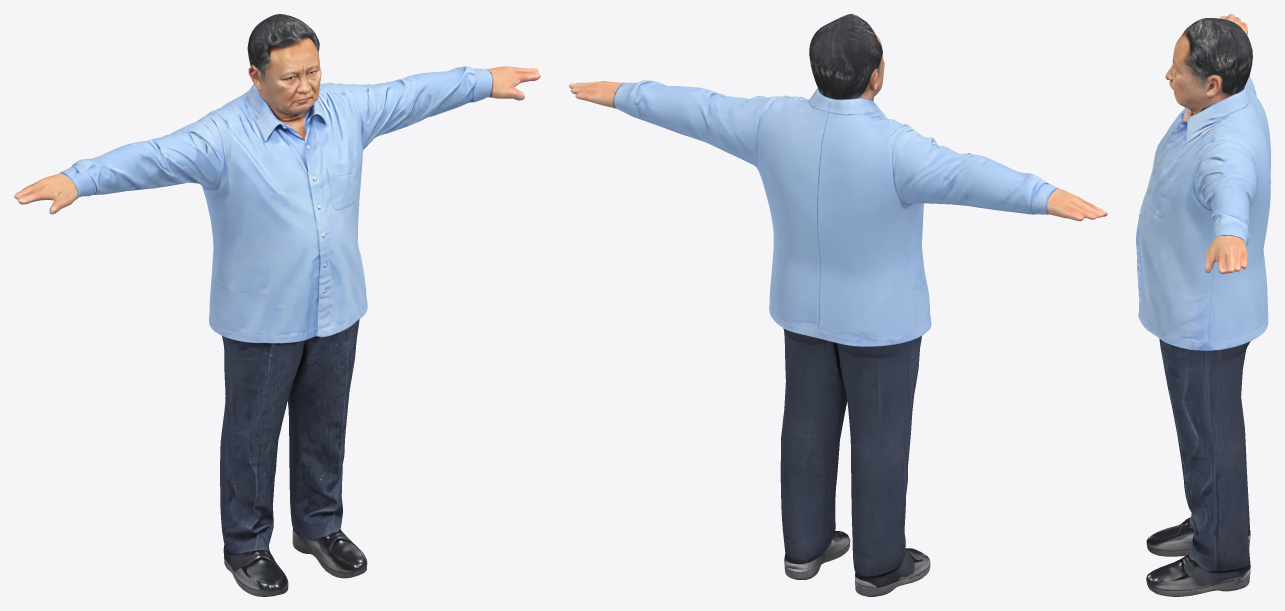
File: wowok.glb
3 renders of one model, left to right at view 1: azimuth 30°, elevation 25°; view 2: azimuth 150°, elevation 25°; view 3: azimuth 270°, elevation 25°, orthographic. The views are drawn at different scales.
Visible parts, largest first — view 1: model; view 2: model; view 3: model.
Boxes of the visible parts, x1=… form: model: x1=14, y1=14, x2=540, y2=596; model: x1=569, y1=14, x2=1107, y2=596; model: x1=1136, y1=14, x2=1270, y2=596.
Bounding box in the file's own units: 1.89 × 1.89 × 0.4197.
Materials: 1 (1 with a texture image).
